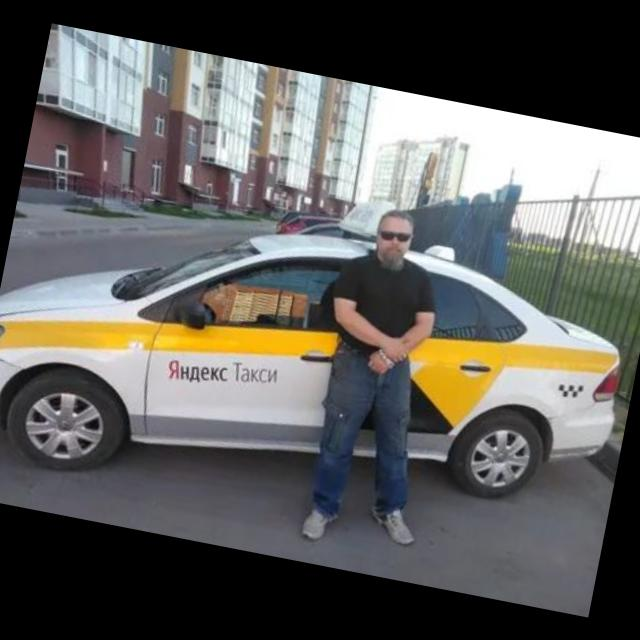taxi: (1, 159, 640, 572)
